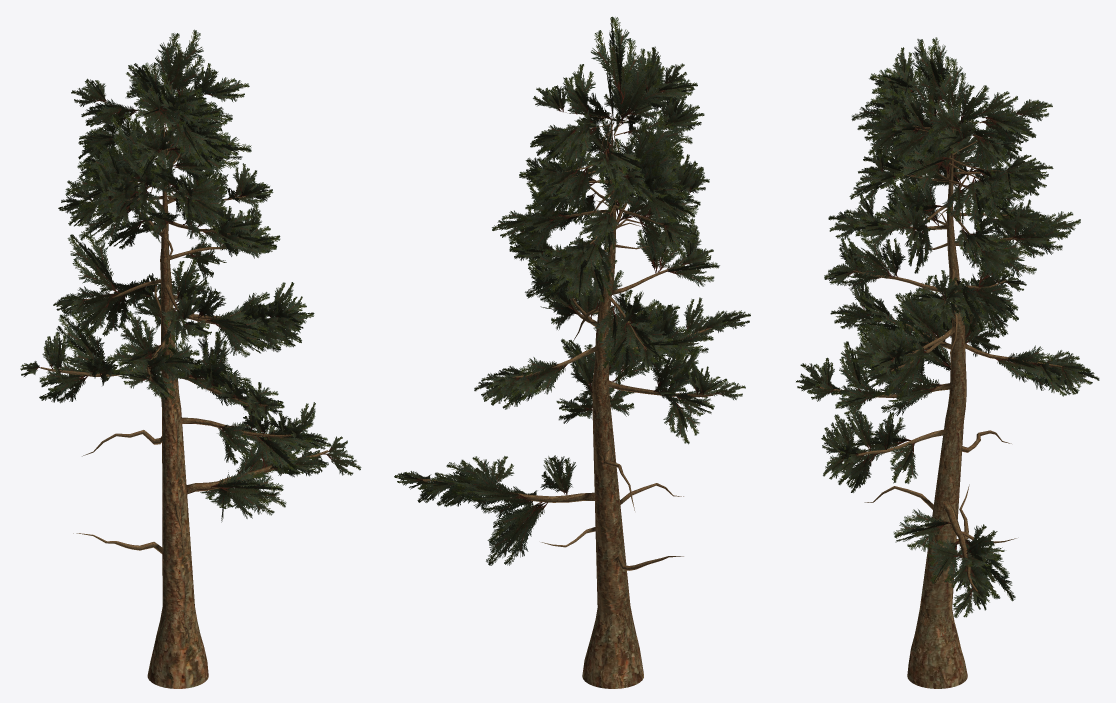
Rendered from Tree - RedWood 4-BsqqeqOZ.glb.
3 renders of one model, left to right at view 1: azimuth 30°, elevation 25°; view 2: azimuth 150°, elevation 25°; view 3: azimuth 270°, elevation 25°, orthographic.
Visible parts, largest first — view 1: RedWood 4; view 2: RedWood 4; view 3: RedWood 4.
Part boxes in pixels (box(x1,y1,x2,y2)): RedWood 4: box(20, 29, 361, 688); RedWood 4: box(394, 16, 750, 688); RedWood 4: box(796, 37, 1099, 688).
Bounding box in the file's own units: 26.27 × 48.07 × 20.85.
Materials: 2 (2 with a texture image).
